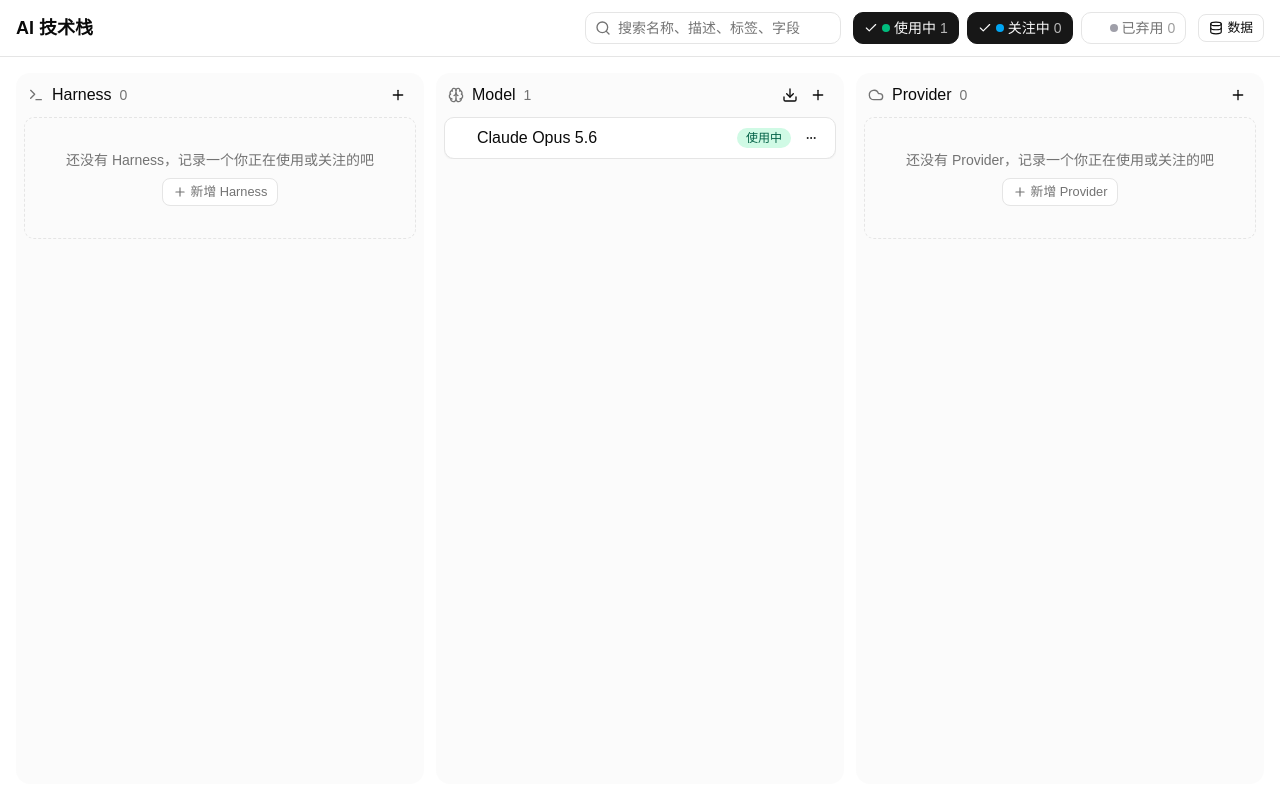
Test: snapshot dialog lists, creates, downloads, deletes with confirmation and opens a preview
The image size is (1280, 800).
Click the button "数据" at (1231, 28), box [1198,14,1264,42]
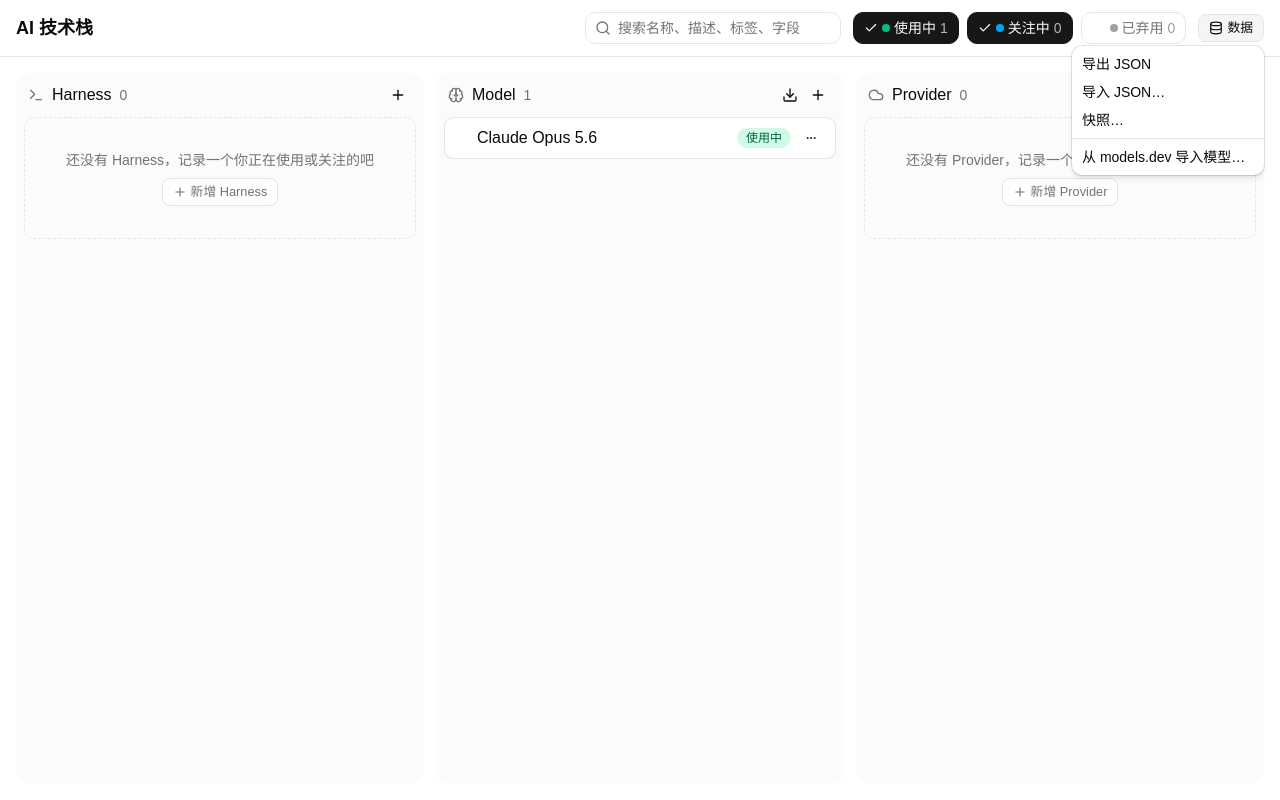
Click the menu item "快照…" at (1103, 120), box [1082,112,1124,128]
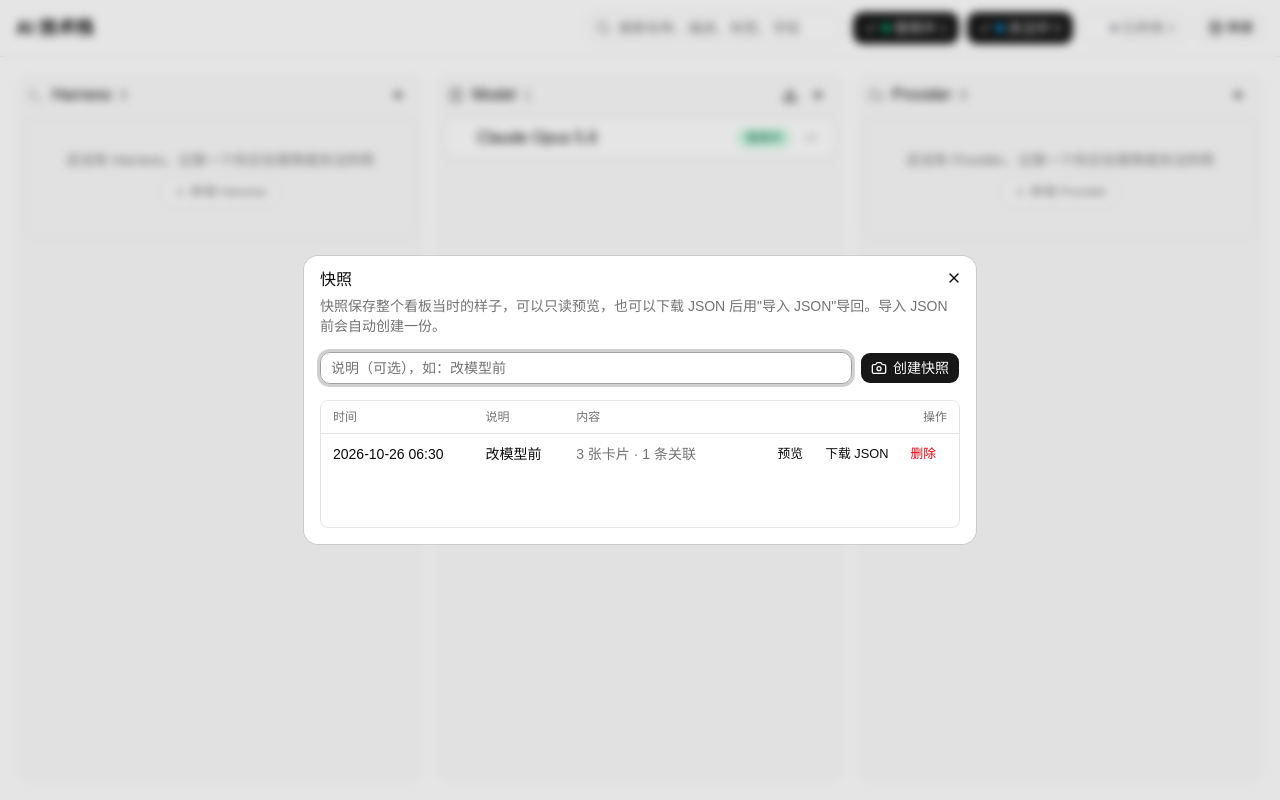
Check: the text "改模型前" shows "3 张卡片 · 1 条关联", box [321,434,959,474]
Type "大改前" into the field named "快照说明" at (586, 368), box [320,352,852,384]
Click the button "创建快照" at (910, 368), box [860,352,960,384]
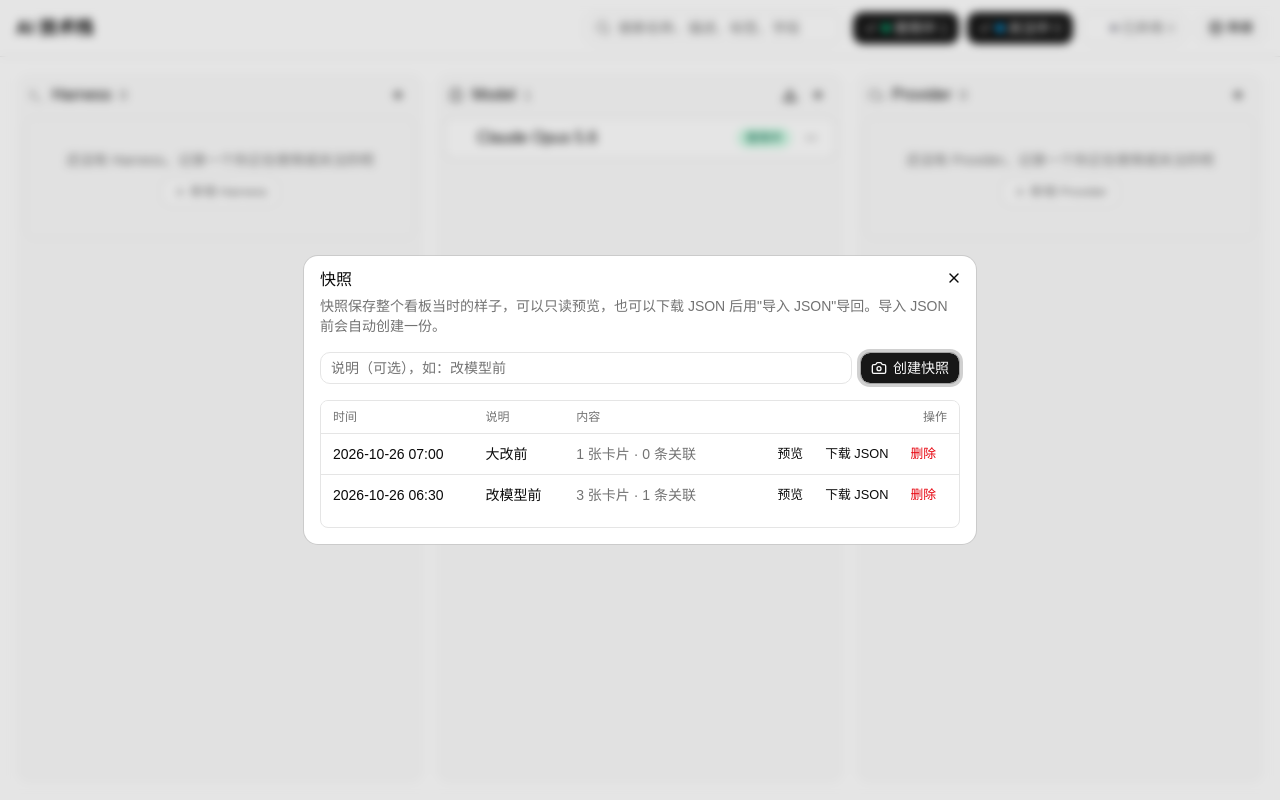
Check: the text "大改前" is shown, box [474,434,564,474]
Check: the field named "快照说明" is empty, box [320,352,852,384]
Click the button "删除" in the row of "2026-10-26 07:00" at (923, 454), box [899,440,947,468]
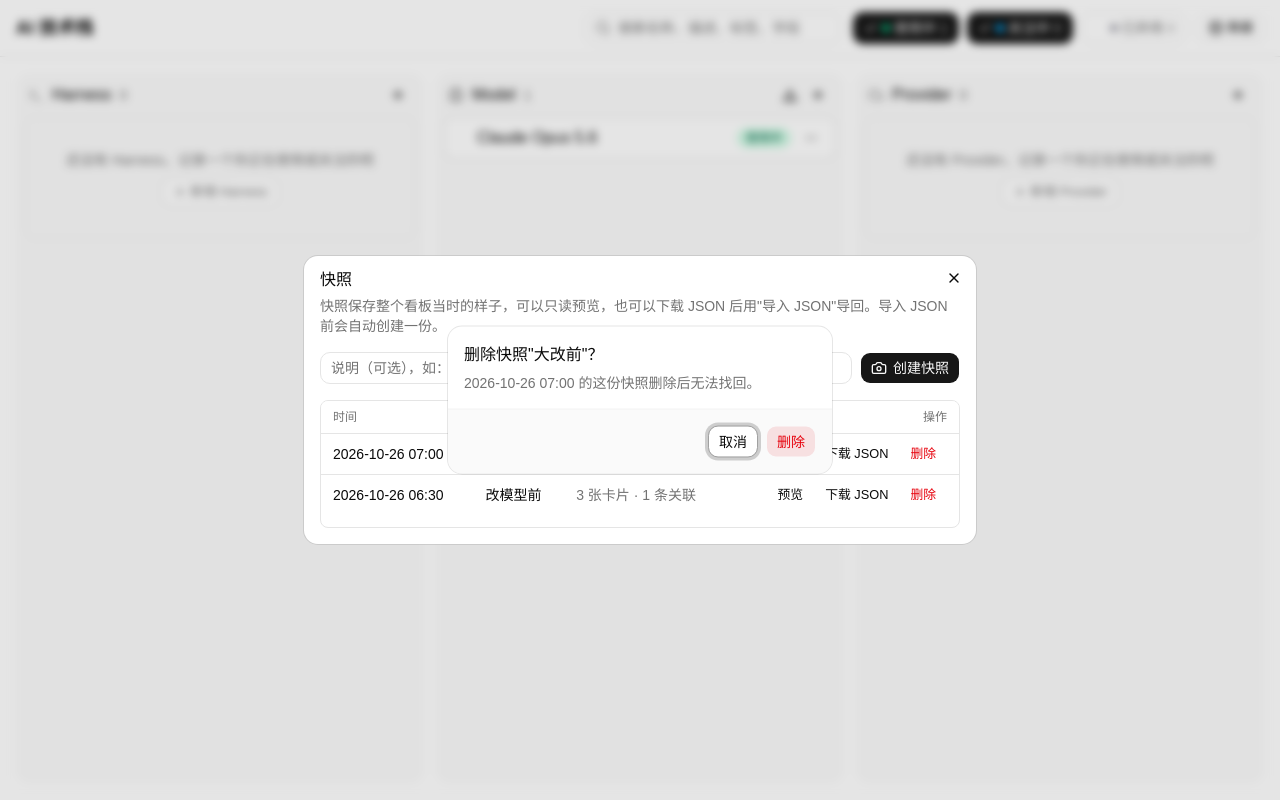
Check: the heading "删除快照\"大改前\"？" is shown, box [464,342,603,366]
Click the button "删除" below "的这份快照删除后无法找回。" at (791, 442), box [766,426,816,458]
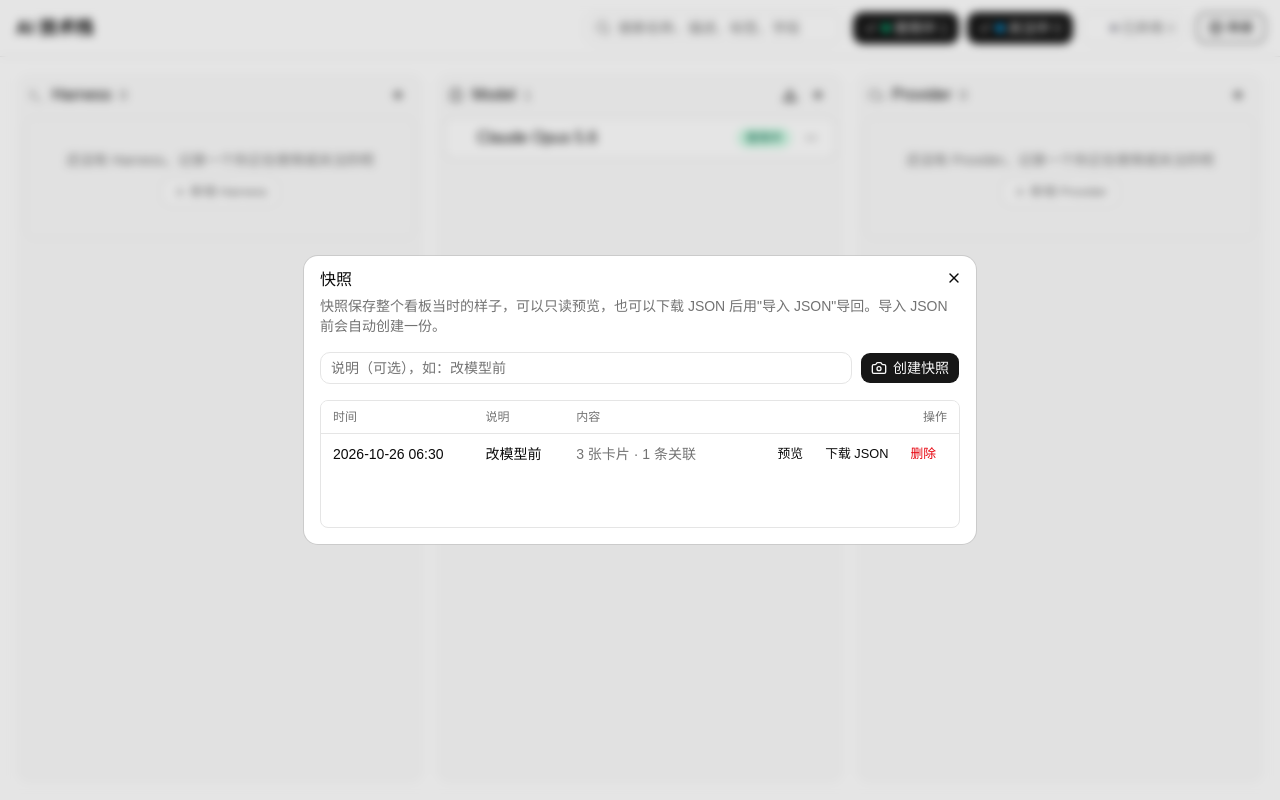
Check: the text "大改前" is gone
Click the button "预览" at (790, 454), box [766,440,814,468]
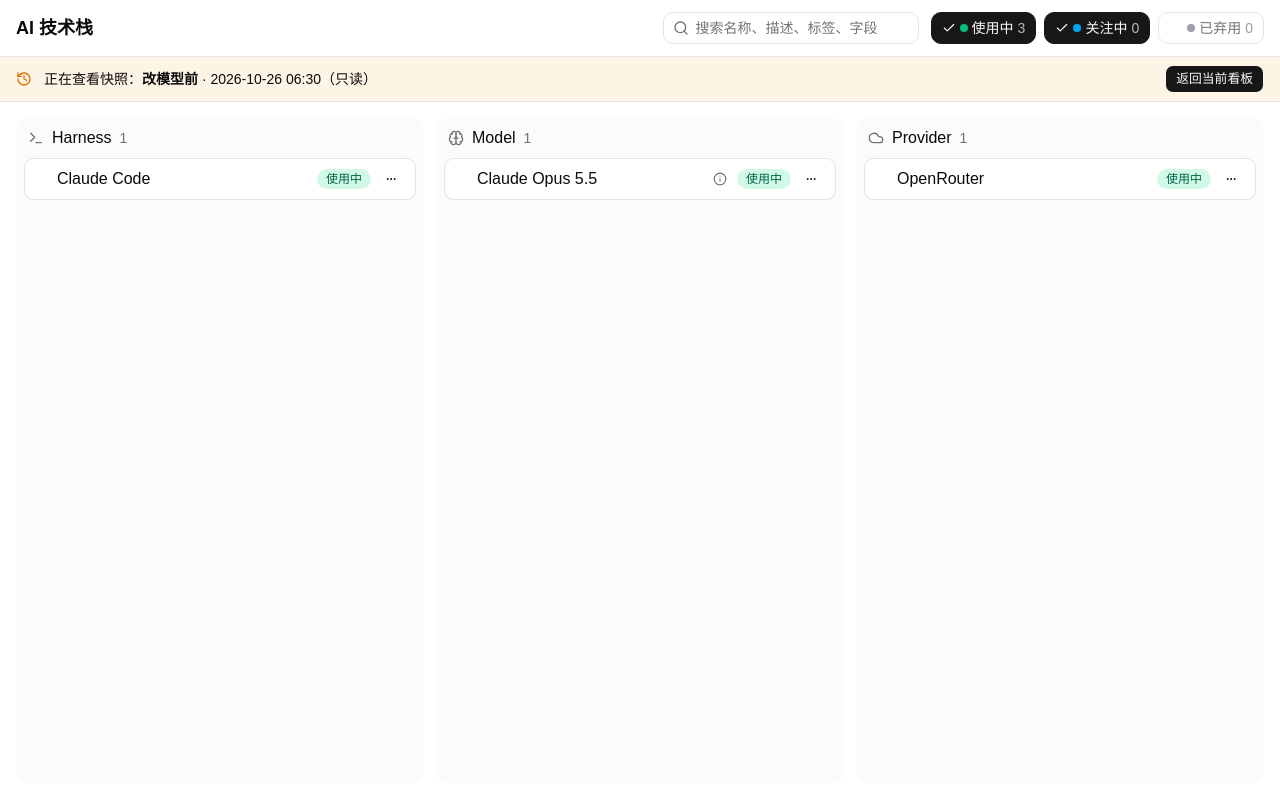
Check: the message named "快照预览" shows "改模型前", box [142,71,198,87]
